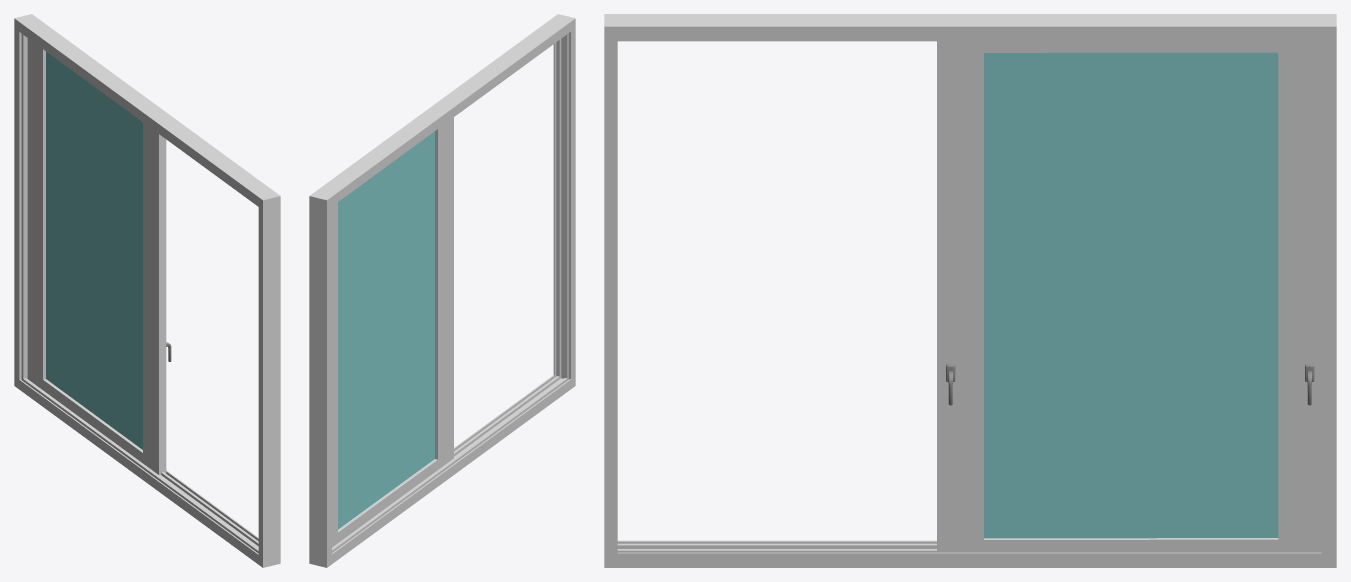
Rendered from FrontLeftWindow.fbx.
3 views of the same model, side by side, from view 1: azimuth 30°, elevation 25°; view 2: azimuth 150°, elevation 25°; view 3: azimuth 270°, elevation 25° (orthographic). The views are drawn at different scales.
Visible parts, largest first — view 1: Box027, WindowFront_001, Box001, InLeft008, InLeft; view 2: WindowFront_001, Box027, Box001, InLeft, InLeft008; view 3: Box001, Box027, WindowFront_001, InLeft008, InLeft.
Boxes of the visible parts, box(x1,y1,x2,y2) form: Box027: box(46, 52, 142, 449); WindowFront_001: box(14, 14, 280, 567); Box001: box(46, 51, 142, 445); InLeft008: box(34, 44, 166, 474); InLeft: box(27, 38, 152, 469); WindowFront_001: box(309, 14, 575, 567); Box027: box(338, 131, 434, 529); Box001: box(338, 133, 434, 528); InLeft: box(332, 122, 447, 547); InLeft008: box(332, 117, 453, 536); Box001: box(984, 52, 1278, 538); Box027: box(984, 52, 1278, 538); WindowFront_001: box(604, 14, 1336, 567); InLeft008: box(937, 41, 1303, 552); InLeft: box(956, 41, 1321, 552).
Size of the model in its own units: 8.07 by 110 by 135.
